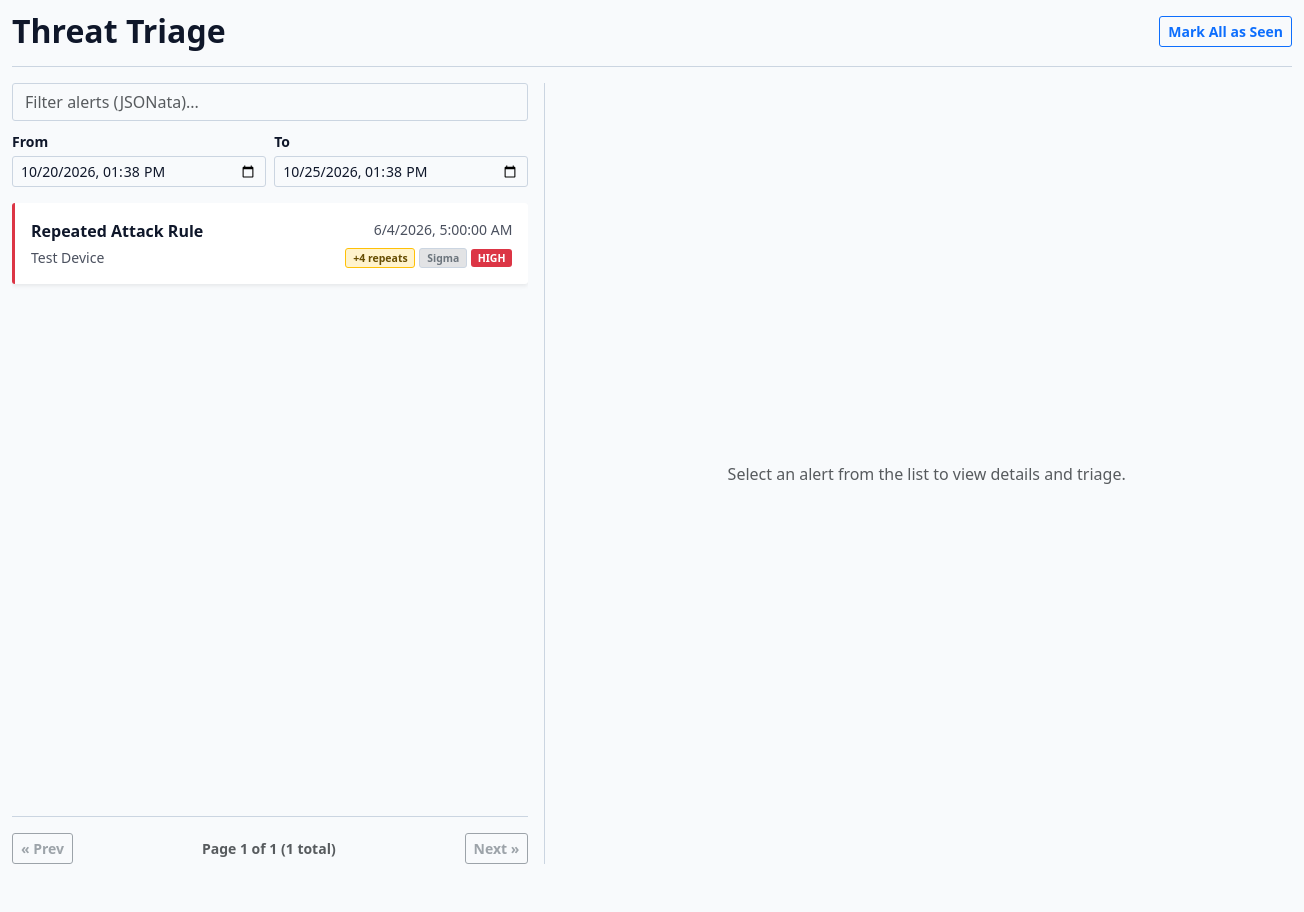
Test: Alerts Page › Rustinel New Alert Fields UI › displays deduplication repeat badge and banner when event.count > 0
Expected: the text "+4 repeats" is shown, [345, 248, 416, 268]
Click the text "Repeated Attack Rule". click: (117, 231)
box: [31, 219, 203, 243]
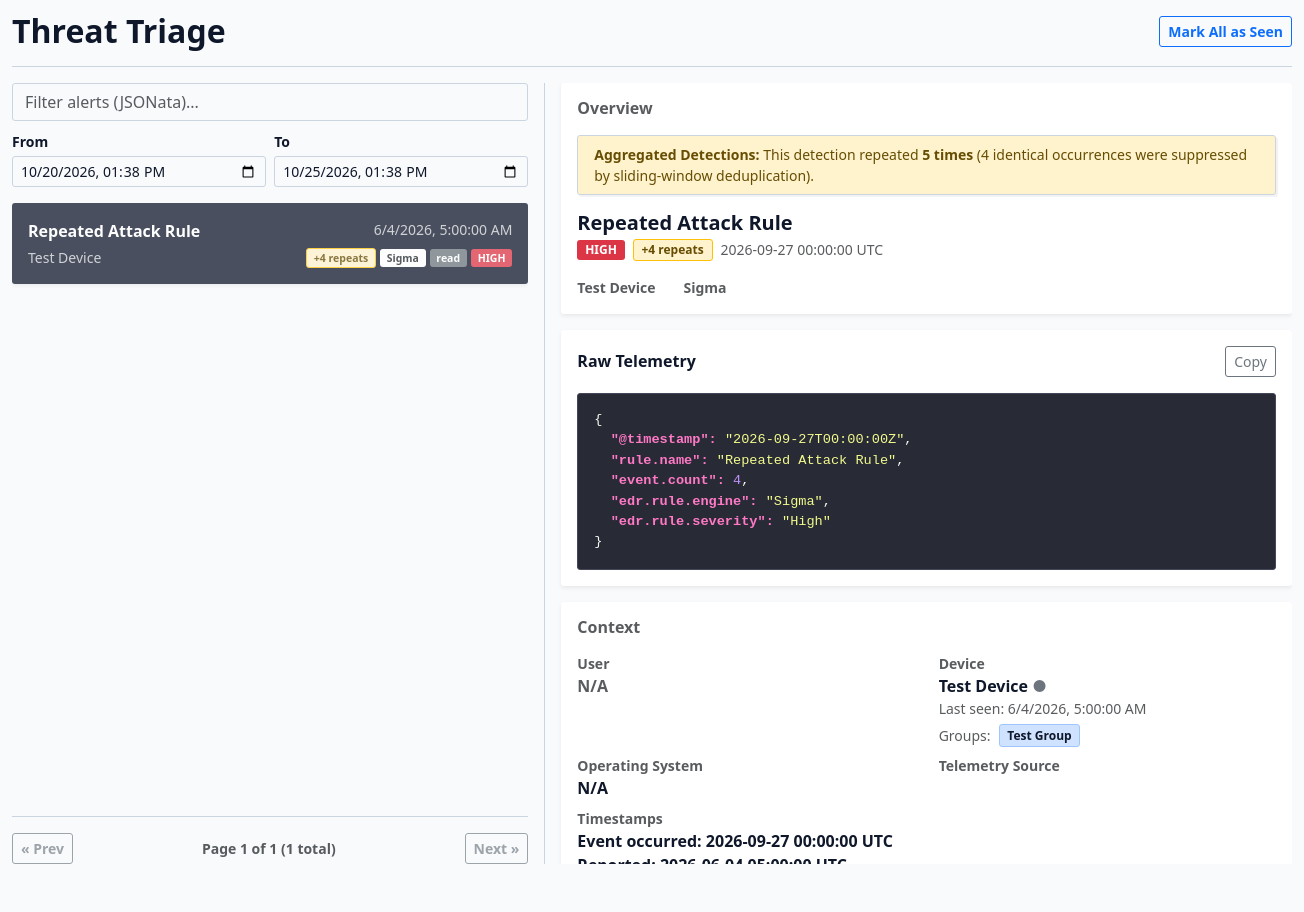
Expected: the text "Aggregated Detections:" is shown, [594, 145, 760, 164]
Expected: the text "4 identical occurrences were suppressed" is shown, [594, 145, 1247, 185]
